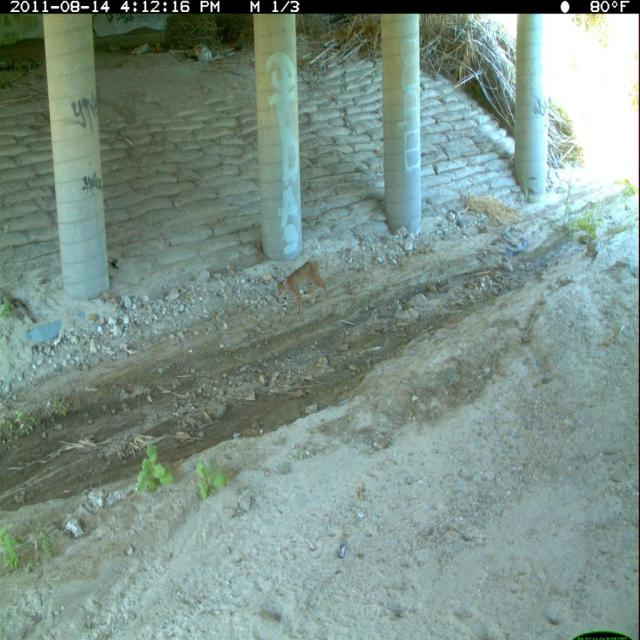bobcat: (272, 255, 332, 330)
